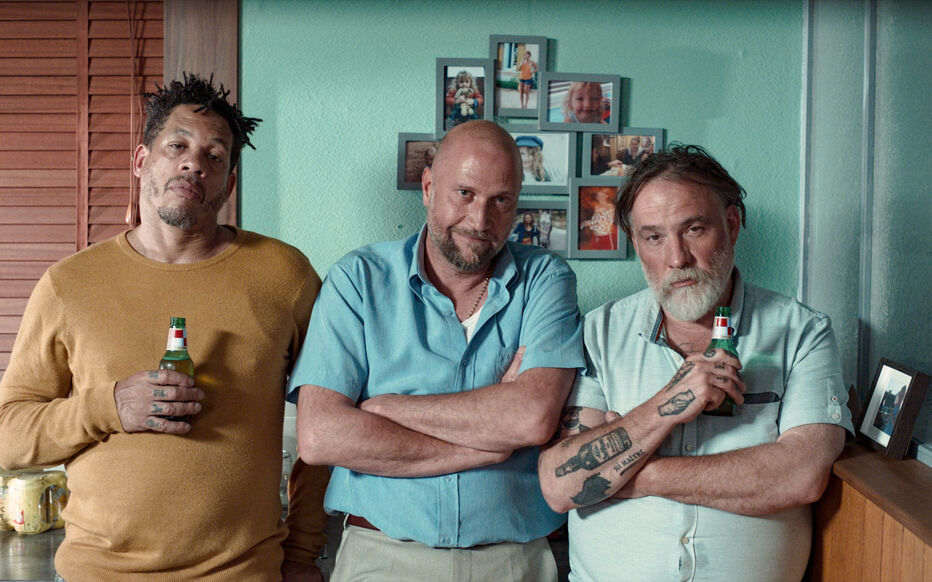without_mask: (629, 191, 731, 310), (139, 108, 234, 231), (430, 153, 520, 282)
